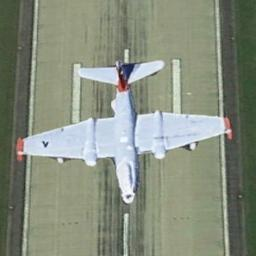Airplane: (15, 53, 232, 204)
